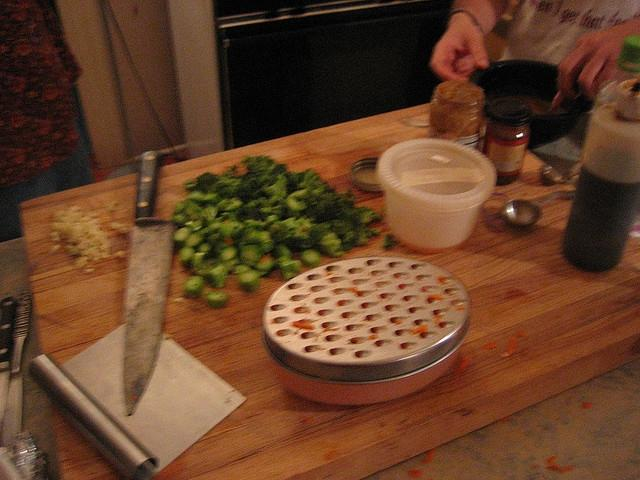broccoli: (280, 218, 316, 252), (262, 172, 298, 204), (341, 206, 384, 232), (184, 172, 220, 195), (232, 201, 268, 223), (312, 198, 339, 224), (295, 170, 328, 191), (185, 190, 223, 208), (258, 198, 288, 219), (283, 188, 308, 212), (232, 228, 261, 248), (320, 188, 361, 202), (239, 244, 263, 267), (182, 276, 205, 300), (214, 256, 244, 274), (331, 219, 356, 240), (238, 269, 260, 292), (243, 216, 279, 230), (210, 174, 236, 193), (174, 226, 195, 249), (308, 222, 332, 242), (300, 248, 322, 267), (257, 231, 275, 254), (184, 200, 204, 220), (270, 242, 292, 260), (179, 245, 196, 268), (197, 259, 220, 276), (206, 291, 227, 309), (185, 234, 208, 250), (342, 230, 368, 244), (198, 206, 218, 224), (220, 244, 240, 261), (311, 184, 336, 196), (172, 212, 189, 228), (214, 198, 234, 210), (174, 198, 189, 214), (242, 171, 264, 181), (246, 162, 268, 172), (195, 242, 213, 253), (199, 227, 213, 236)
